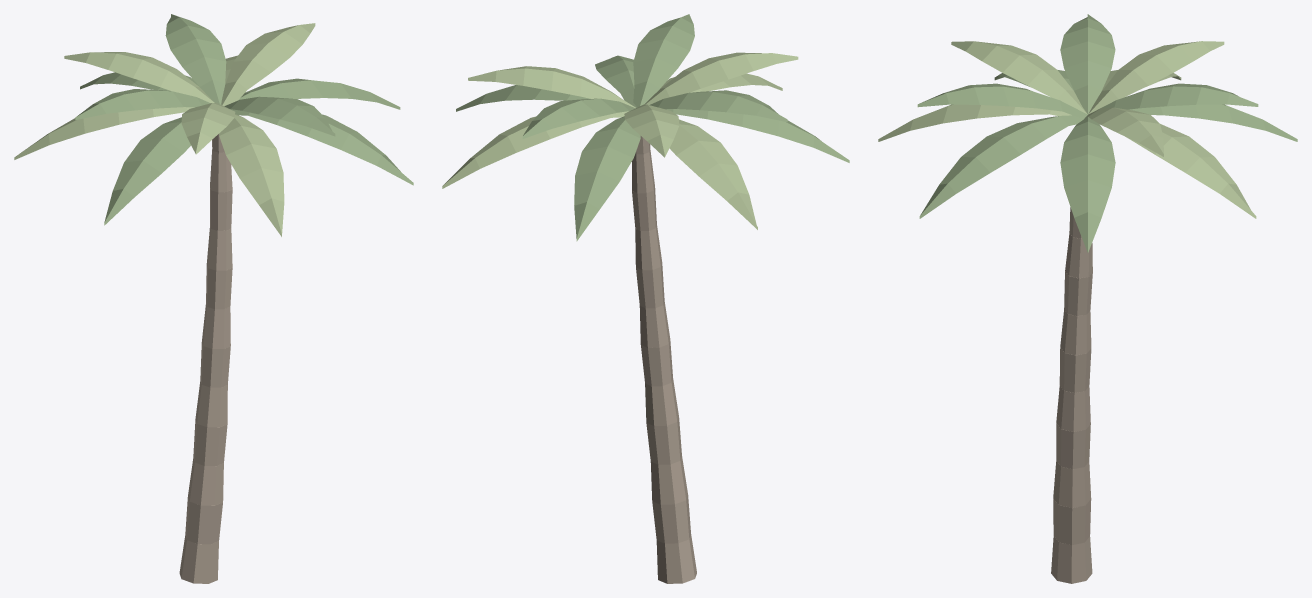
File: palm_tree.glb
The picture shows the model from 3 angles, left to right: view 1: azimuth 30°, elevation 25°; view 2: azimuth 150°, elevation 25°; view 3: azimuth 270°, elevation 25°; orthographic projection. The views are drawn at different scales.
Parts seen in each view (by area): view 1: palm_tree; view 2: palm_tree; view 3: palm_tree.
Part boxes in pixels (box(x1,y1,x2,y2)): palm_tree: box(14, 14, 413, 583); palm_tree: box(442, 14, 849, 583); palm_tree: box(878, 14, 1297, 583).
Bounding box in the file's own units: 5.04 × 6.99 × 5.17.
